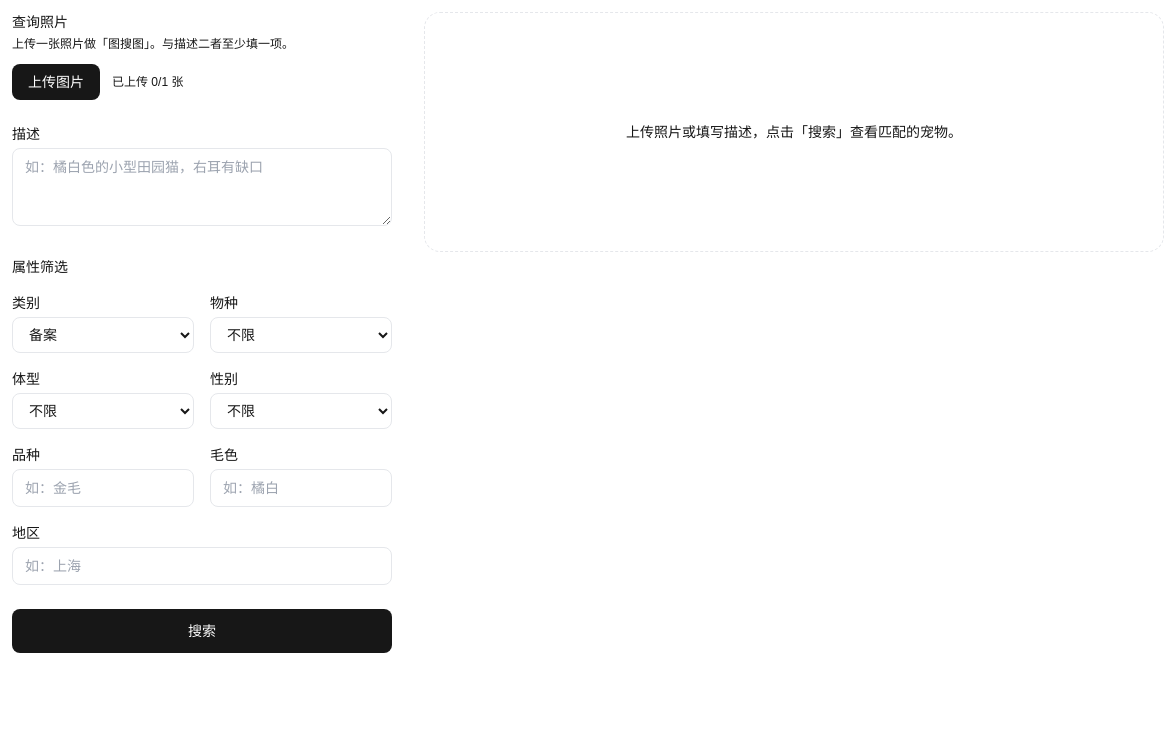
Test case: SearchForm › displays error message when the search request times out
Step 1. Type "cat" into the text box labelled "描述" → (202, 187), box [12,148,392,226]
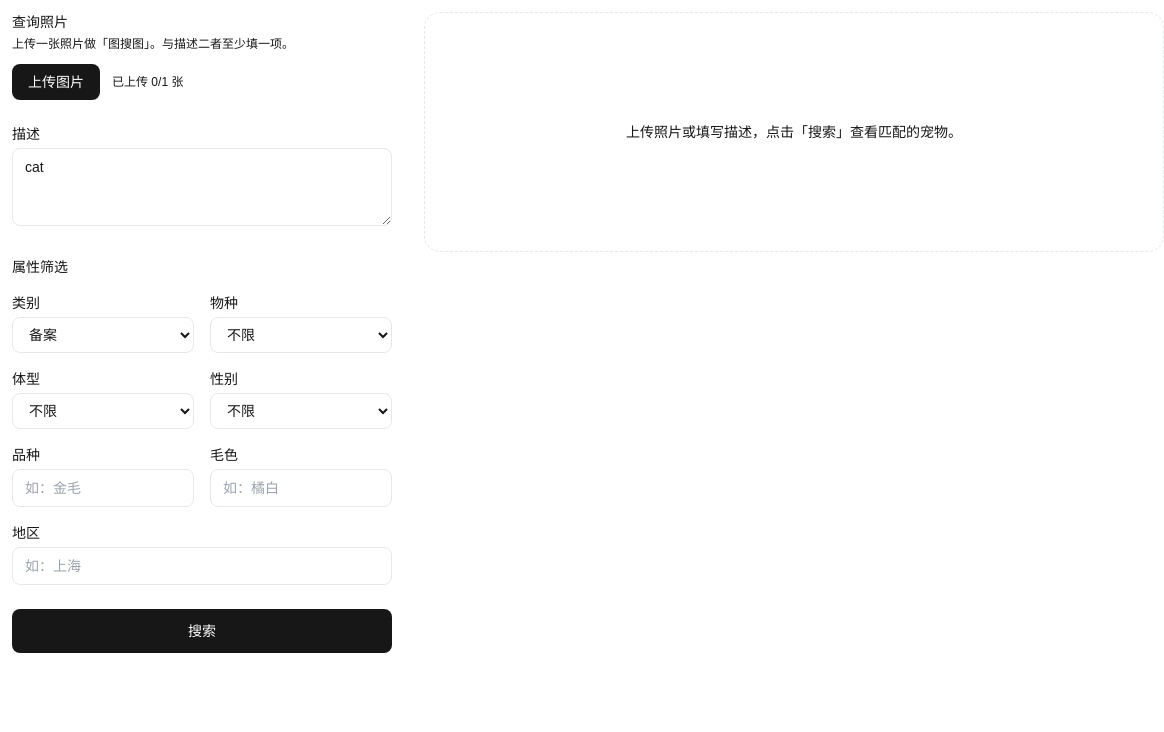
Step 2. Click the button "搜索" → (202, 631), box [12,609,392,653]
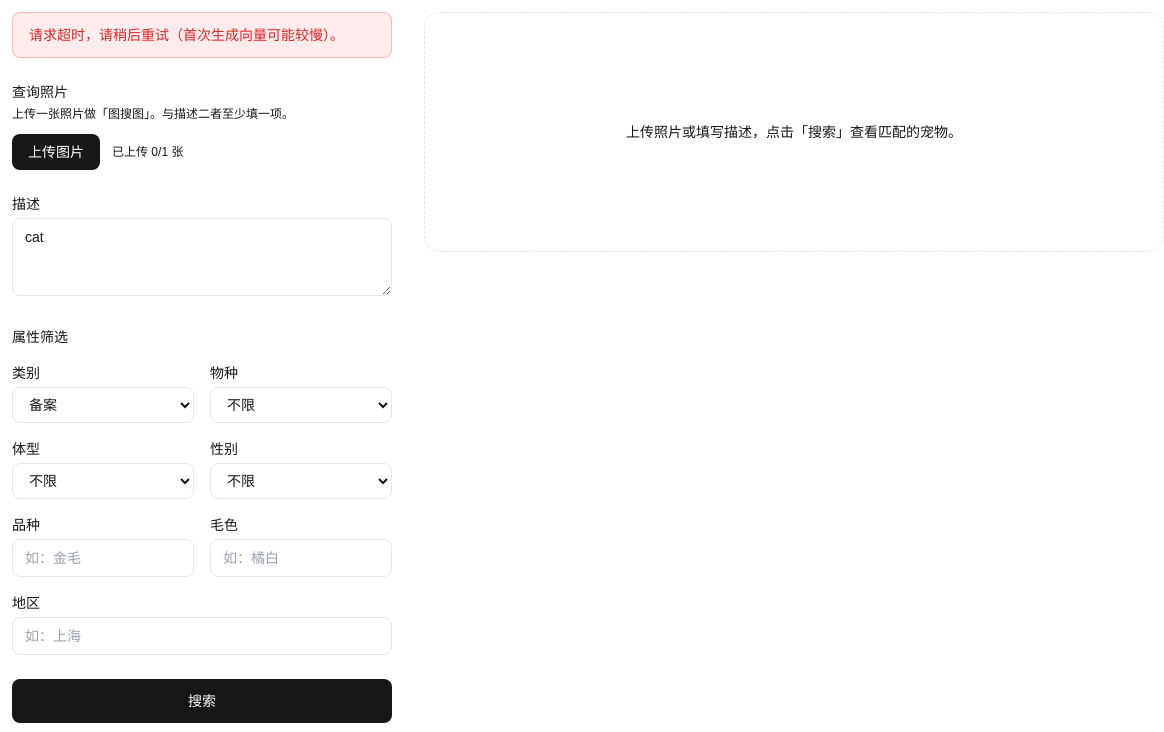
Result: the message shows "超时" at [12,12,392,58]
